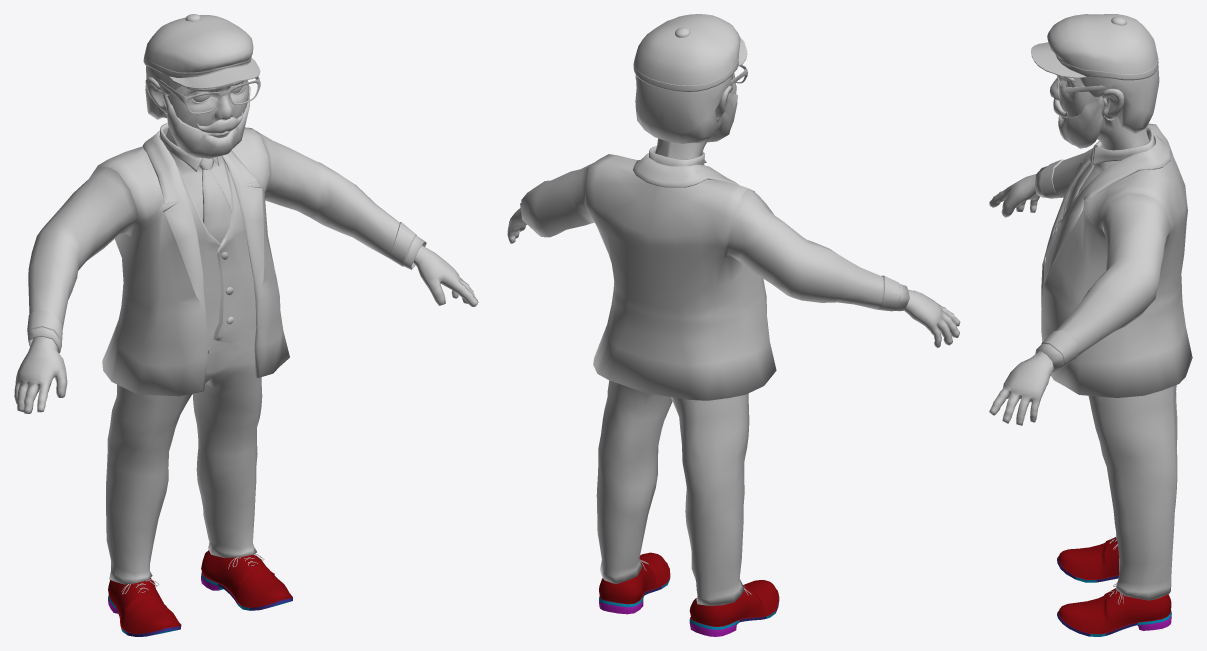
The model's file is Librarian.glb.
3 views of the same model, side by side, from view 1: azimuth 30°, elevation 25°; view 2: azimuth 150°, elevation 25°; view 3: azimuth 270°, elevation 25° (orthographic). The views are drawn at different scales.
Parts seen in each view (by area): view 1: Jacket, Pants, Vest, Hat, Shoes, Head, Arms, Glasses; view 2: Jacket, Pants, Hat, Head, Shoes, Arms; view 3: Jacket, Pants, Hat, Head, Shoes, Arms, Vest, Glasses.
Part boxes in pixels (<box>): Jacket: <box>27,127,426,396</box>; Pants: <box>106,345,262,584</box>; Vest: <box>160,123,256,353</box>; Hat: <box>143,14,260,88</box>; Shoes: <box>108,550,292,636</box>; Head: <box>145,65,250,158</box>; Arms: <box>14,245,478,413</box>; Glasses: <box>158,76,260,114</box>; Jacket: <box>520,153,909,400</box>; Pants: <box>596,380,749,605</box>; Hat: <box>633,14,747,91</box>; Head: <box>635,73,737,159</box>; Shoes: <box>599,552,779,636</box>; Arms: <box>507,208,960,347</box>; Jacket: <box>1035,123,1192,397</box>; Pants: <box>1088,385,1177,600</box>; Hat: <box>1031,14,1158,80</box>; Head: <box>1050,66,1159,150</box>; Shoes: <box>1057,537,1171,636</box>; Arms: <box>989,174,1053,425</box>; Vest: <box>1043,126,1154,286</box>; Glasses: <box>1056,75,1105,101</box>.
Bounding box in the file's own units: 1.5 × 1.87 × 0.5938.
